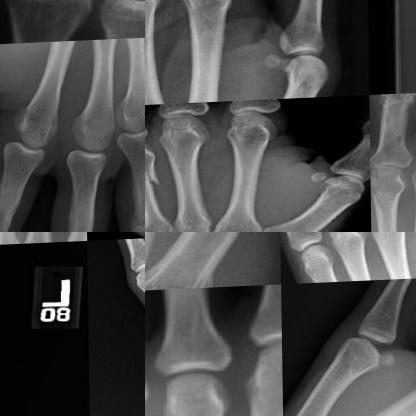fracture: (145, 155, 162, 197)
